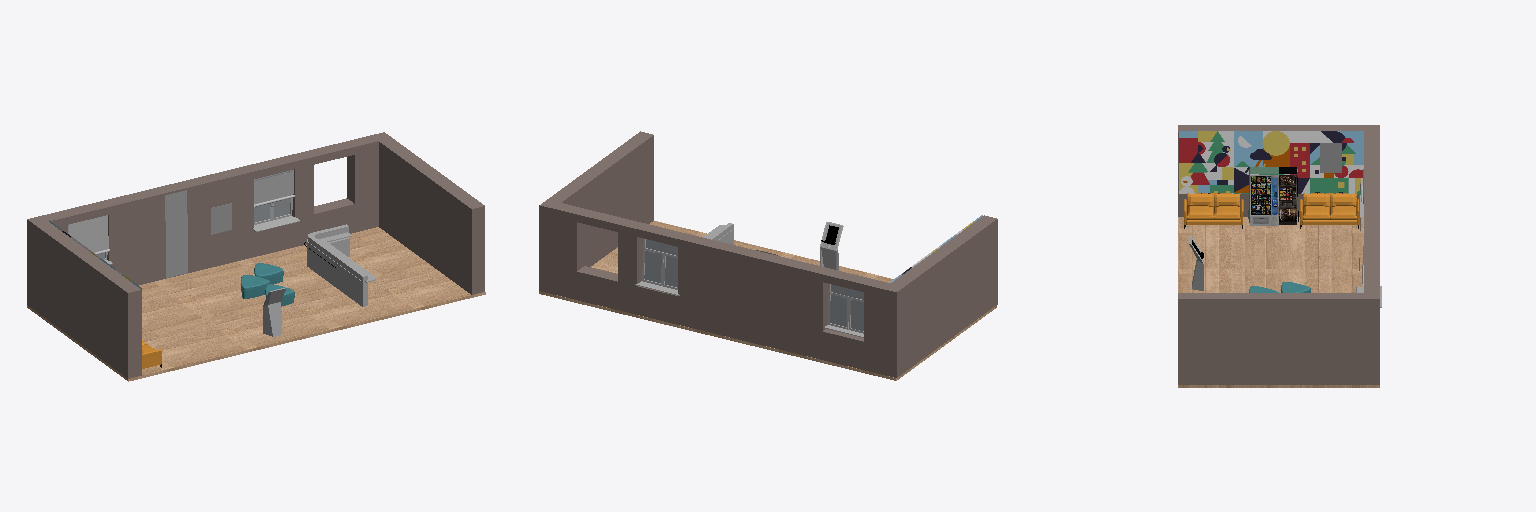
The picture shows the model from 3 angles: view 1: azimuth 30°, elevation 25°; view 2: azimuth 150°, elevation 25°; view 3: azimuth 270°, elevation 25°; orthographic projection.
Parts seen in each view (by area): view 1: Group_1071, Box003, Grid, L-Ext007, Circle038, Plane2584, Circle037, Object9429, Group_001, Rectangle3, Cylinder14.Cylinder10.Cylinder11.001_Cylinder14.001; view 2: Group_1071, Box003, Plane2584, Plane2585, Group_001; view 3: Group_1071, Box003, Grid.001, Box437, Box444, Grid.005, Grid.002, Grid.008.
Boxes of the visible parts, x1=… form: Group_1071: x1=27, y1=132, x2=484, y2=378; Box003: x1=27, y1=227, x2=485, y2=381; Grid: x1=165, y1=190, x2=187, y2=277; L-Ext007: x1=307, y1=238, x2=367, y2=306; Circle038: x1=69, y1=215, x2=109, y2=254; Plane2584: x1=252, y1=170, x2=299, y2=231; Circle037: x1=254, y1=172, x2=294, y2=206; Object9429: x1=308, y1=224, x2=367, y2=282; Group_001: x1=263, y1=287, x2=286, y2=336; Rectangle3: x1=211, y1=203, x2=231, y2=234; Cylinder14.Cylinder10.Cylinder11.001_Cylinder14.001: x1=241, y1=275, x2=269, y2=298; Group_1071: x1=539, y1=131, x2=997, y2=377; Box003: x1=539, y1=221, x2=996, y2=380; Plane2584: x1=635, y1=239, x2=679, y2=295; Plane2585: x1=824, y1=284, x2=863, y2=337; Group_001: x1=820, y1=222, x2=843, y2=270; Group_1071: x1=1178, y1=125, x2=1379, y2=384; Box003: x1=1178, y1=217, x2=1379, y2=387; Grid.001: x1=1179, y1=131, x2=1363, y2=194; Box437: x1=1300, y1=193, x2=1359, y2=228; Box444: x1=1184, y1=193, x2=1243, y2=228; Grid.005: x1=1250, y1=175, x2=1278, y2=225; Grid.002: x1=1279, y1=175, x2=1296, y2=224; Grid.008: x1=1320, y1=143, x2=1341, y2=172.
Size of the model in its own units: 1.31 by 0.3143 by 0.6455.
Materials: 30 (4 with a texture image).